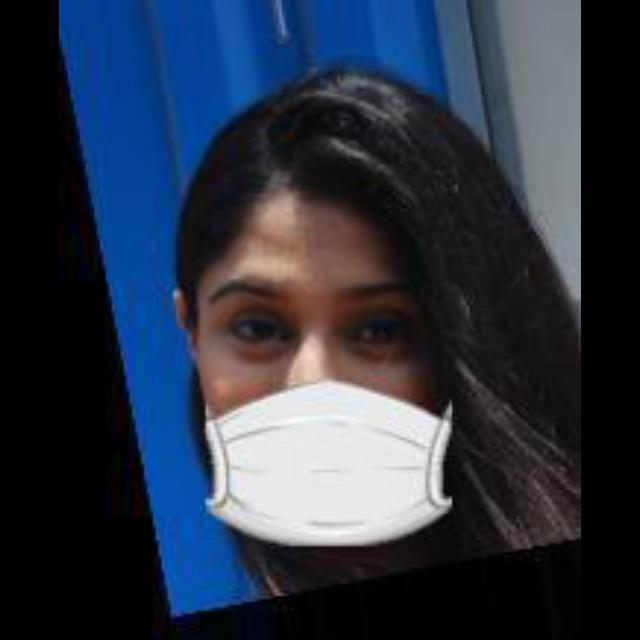suspicion: (190, 134, 466, 534)
